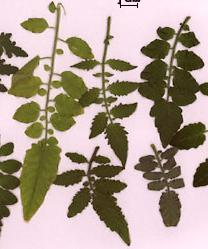Tomato leaf: (17, 139, 64, 223), (8, 95, 48, 131), (14, 9, 53, 39), (11, 54, 47, 86), (10, 75, 45, 102), (62, 34, 94, 63), (62, 69, 88, 103), (52, 98, 84, 121), (47, 112, 78, 135)
